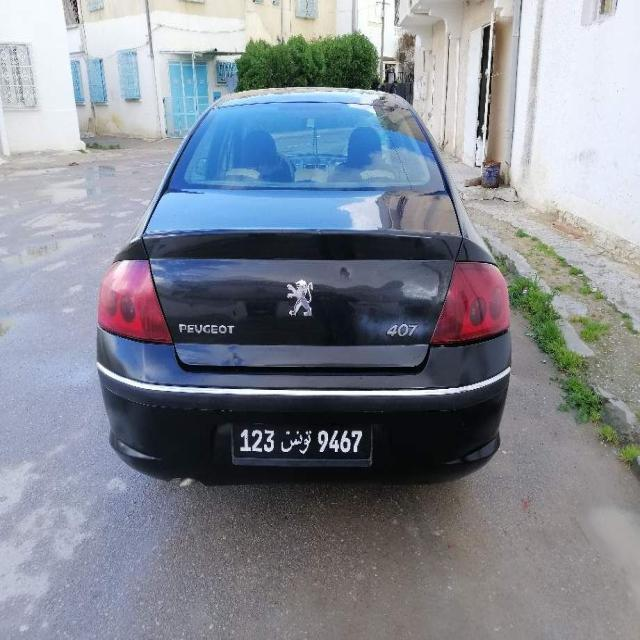LP: (230, 418, 370, 459)
